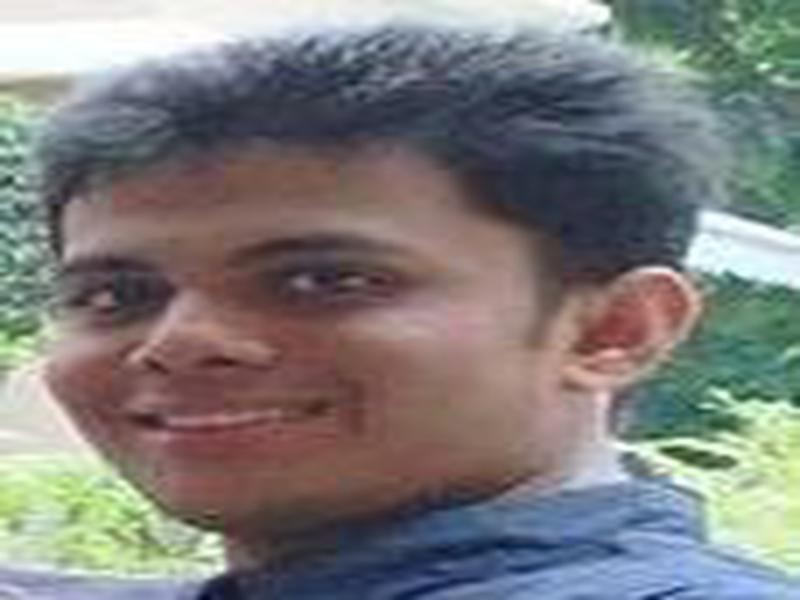without_mask: (34, 159, 551, 533)
